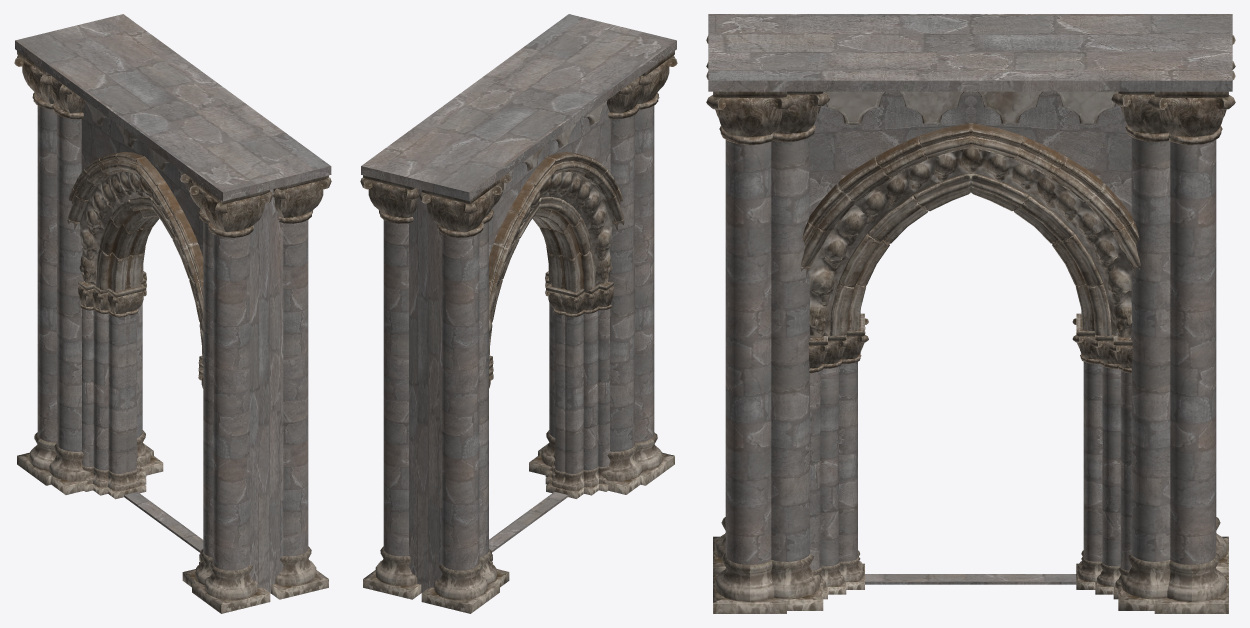
The picture shows the model from 3 angles, left to right: view 1: azimuth 30°, elevation 25°; view 2: azimuth 150°, elevation 25°; view 3: azimuth 270°, elevation 25°; orthographic projection. The views are drawn at different scales.
Visible parts, largest first — view 1: SM_DungeonDoor_LOD0; view 2: SM_DungeonDoor_LOD0; view 3: SM_DungeonDoor_LOD0.
Boxes of the visible parts, left/top/right/bottom form: SM_DungeonDoor_LOD0: left=14, top=14, right=331, bottom=613; SM_DungeonDoor_LOD0: left=360, top=14, right=677, bottom=613; SM_DungeonDoor_LOD0: left=706, top=14, right=1235, bottom=613.
Bounding box in the file's own units: 1.73 × 6 × 5.39.
3 materials, 3 textured.
